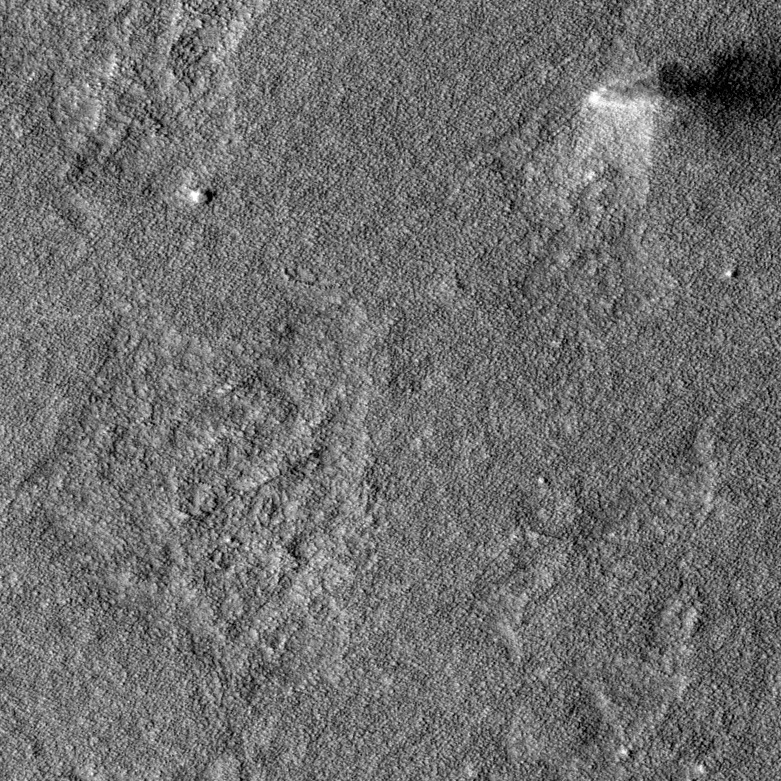dust_devil: (584, 37, 781, 123)
